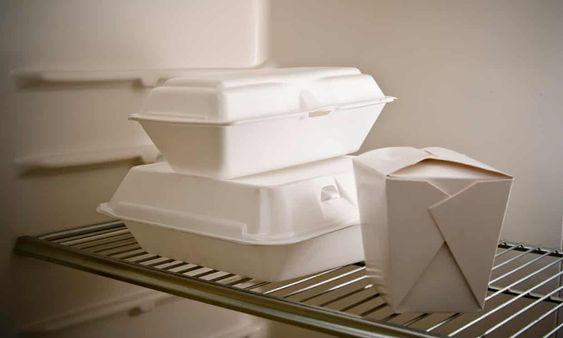PS: (93, 160, 377, 282), (126, 66, 396, 178), (353, 143, 515, 317)
